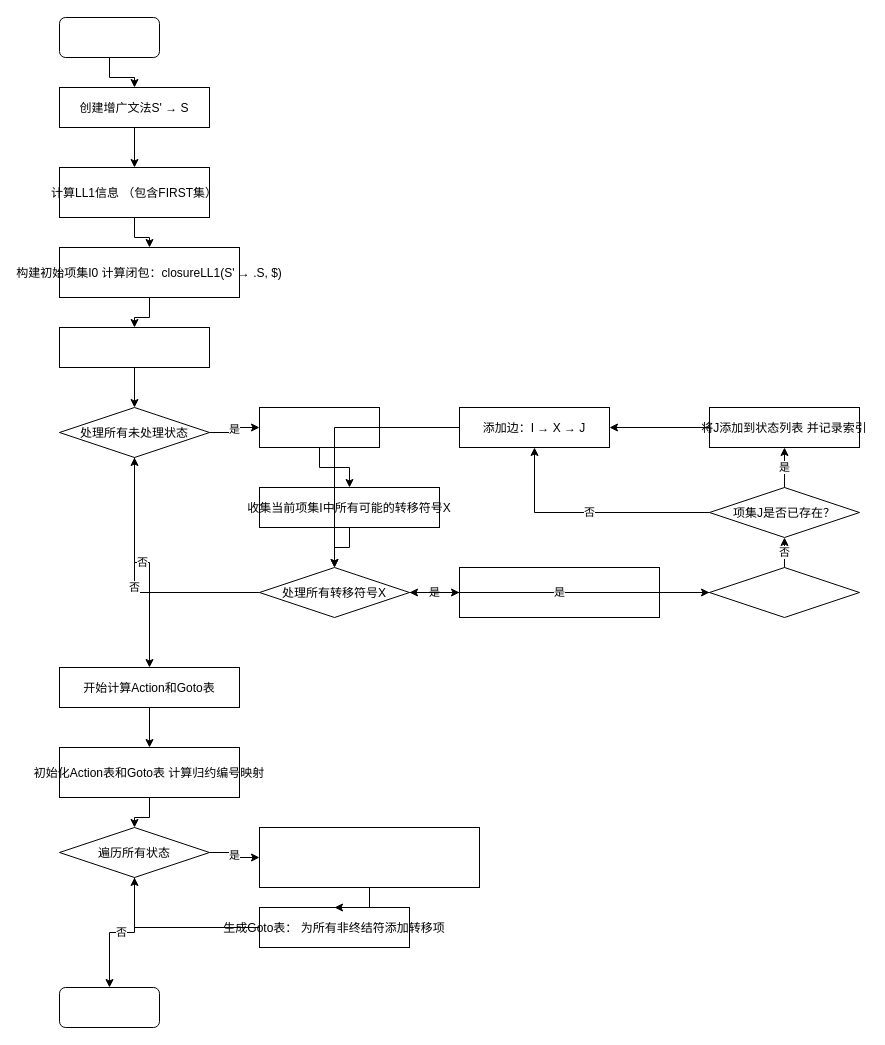
Some shapes in this 885 by 1045 pixel diagram are drawn without their labels. Here are the shapes that lost their labels. From the top down, the centre of each, then its label:
[109,37]: 开始
[134,347]: 初始化LR1图 添加I0到状态列表
[319,427]: 处理当前状态I
[559,592]: 计算goTo(I, X) = closureLL1(I中所有项•后移X) 得到新项集J
[784,592]: 项集J是否为空？
[369,857]: 处理状态中的所有项： 1. 点未到末尾：若X为终结符，添加移进动作 2. 点已到末尾：添加接受或归约动作
[109,1007]: 结束
